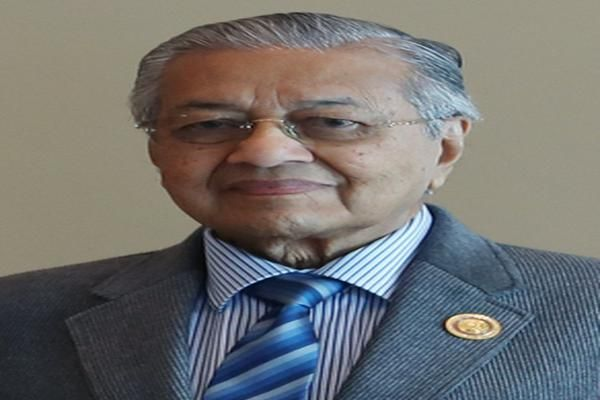Malay: (156, 57, 392, 232)
